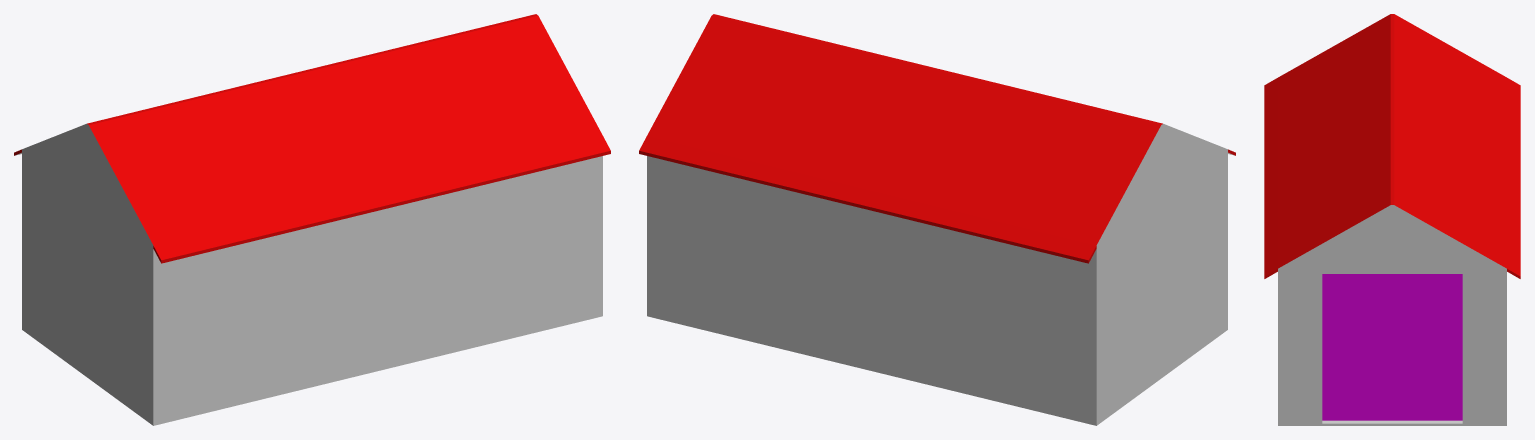
Rendered from House_1.fbx.
3 renders of one model, left to right at view 1: azimuth 30°, elevation 25°; view 2: azimuth 150°, elevation 25°; view 3: azimuth 270°, elevation 25°, orthographic. The views are drawn at different scales.
Parts seen in each view (by area): view 1: pCube10; view 2: pCube10; view 3: pCube10.
Part boxes in pixels (bbox=[...]): pCube10: bbox=[14, 14, 610, 425]; pCube10: bbox=[639, 14, 1235, 425]; pCube10: bbox=[1264, 14, 1520, 425].
Size of the model in its own units: 45.9 by 24.73 by 26.04.
